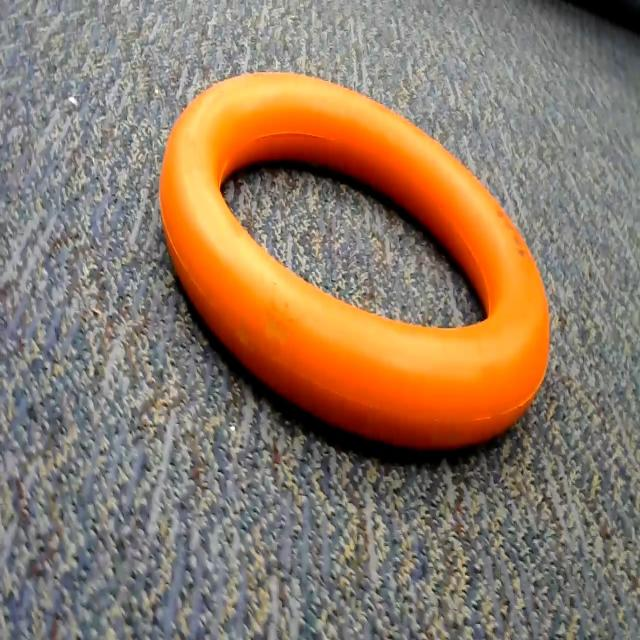note: (161, 52, 562, 466)
